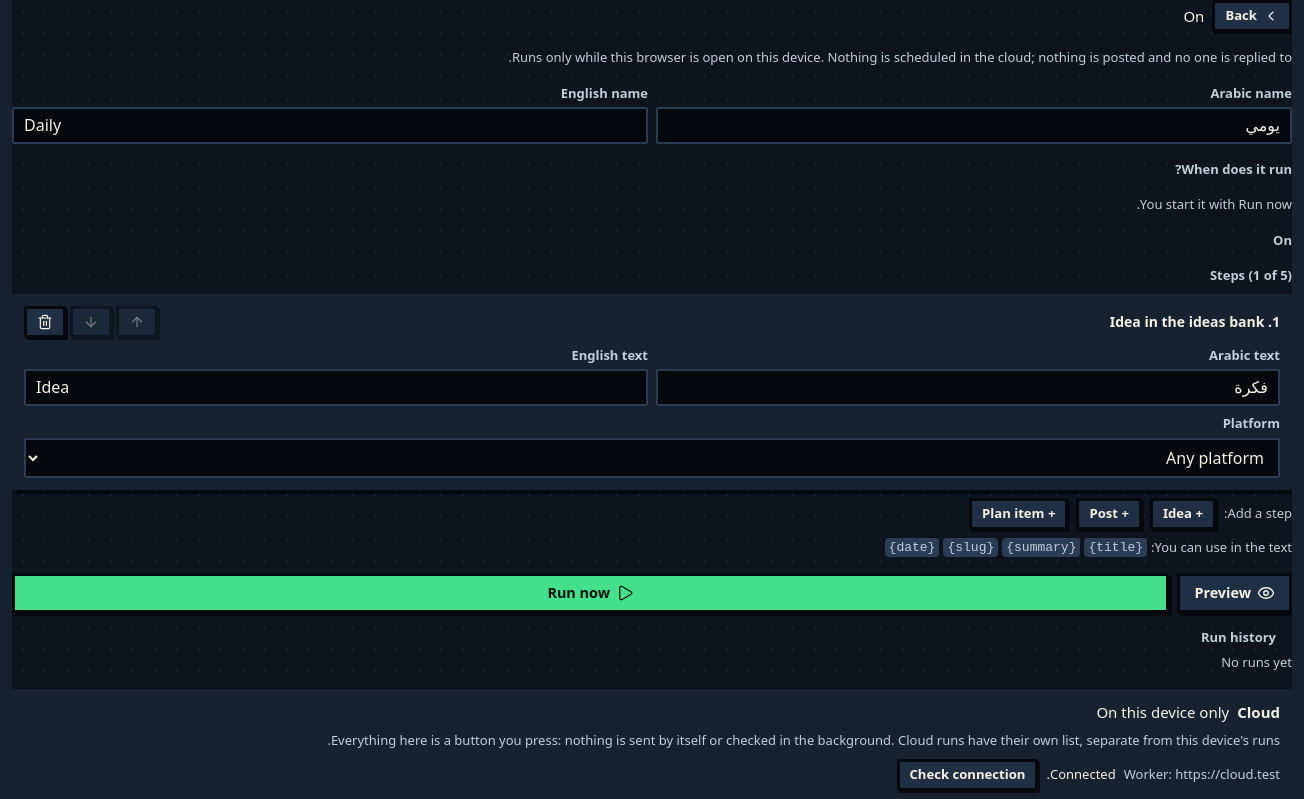
Run now › a registered workflow captures one cloud run (no local run) and its row offers Send
Click the button "Run now": click(591, 593) left=12, top=573, right=1169, bottom=613
(page scrolled)
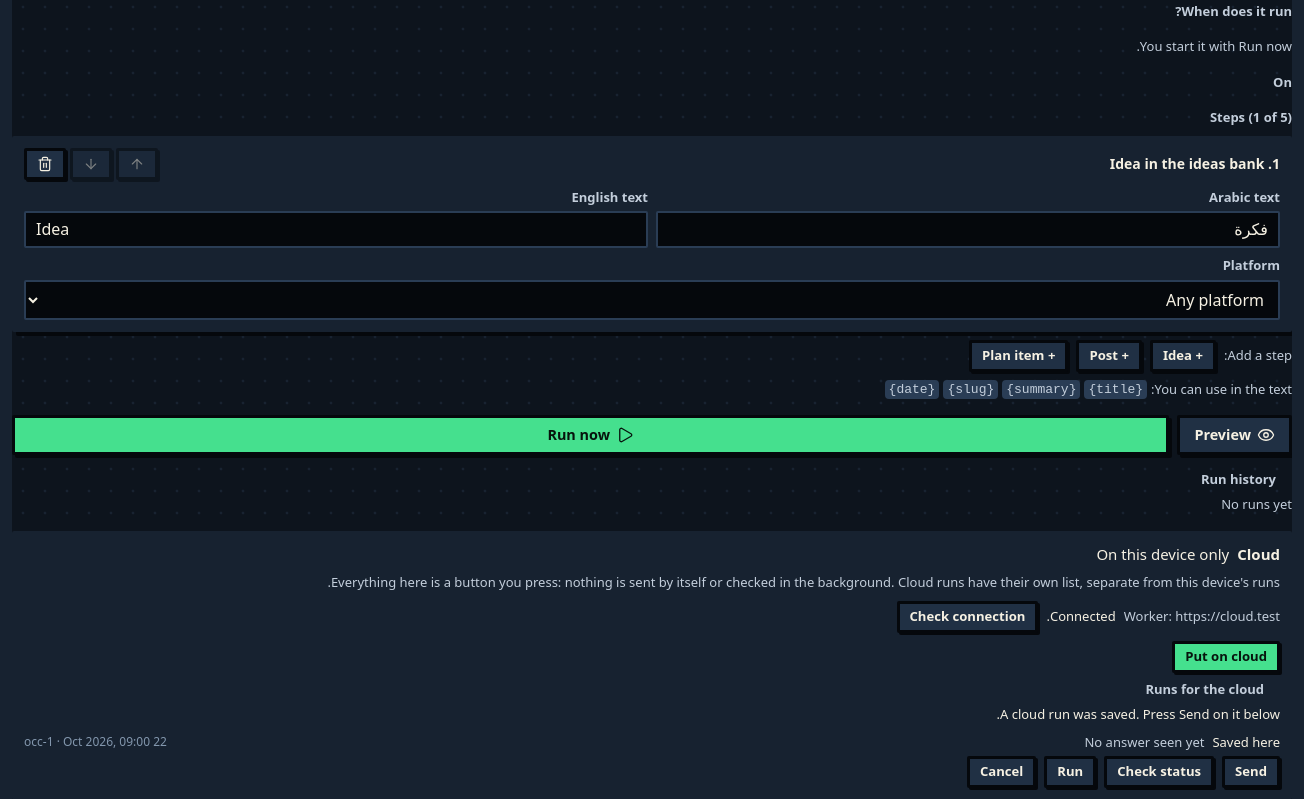
expect the message "A cloud run was saved. Press Send on it below." is shown: met, box left=996, top=705, right=1280, bottom=723
